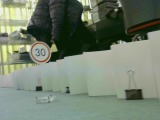speed_30: (29, 41, 51, 63)
